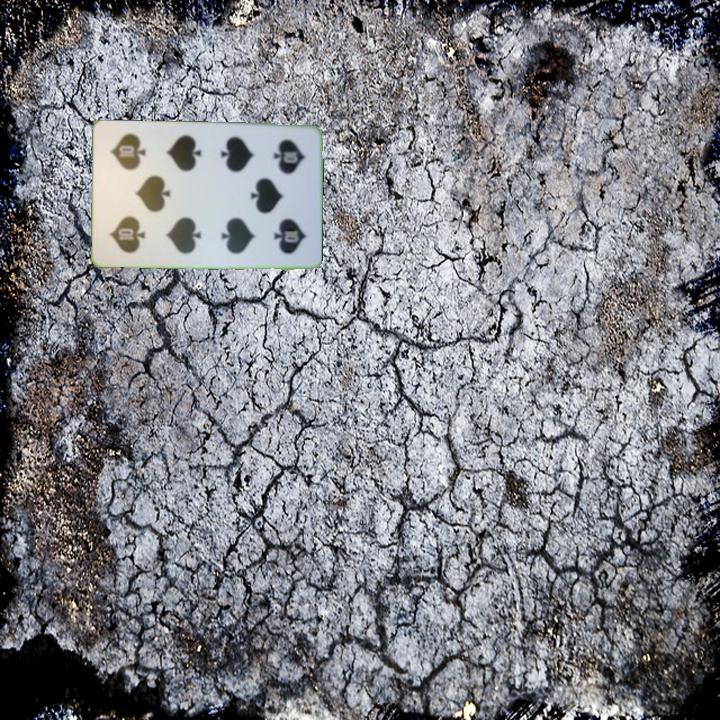s_10.png: (254, 132, 313, 200), (100, 190, 159, 258)
